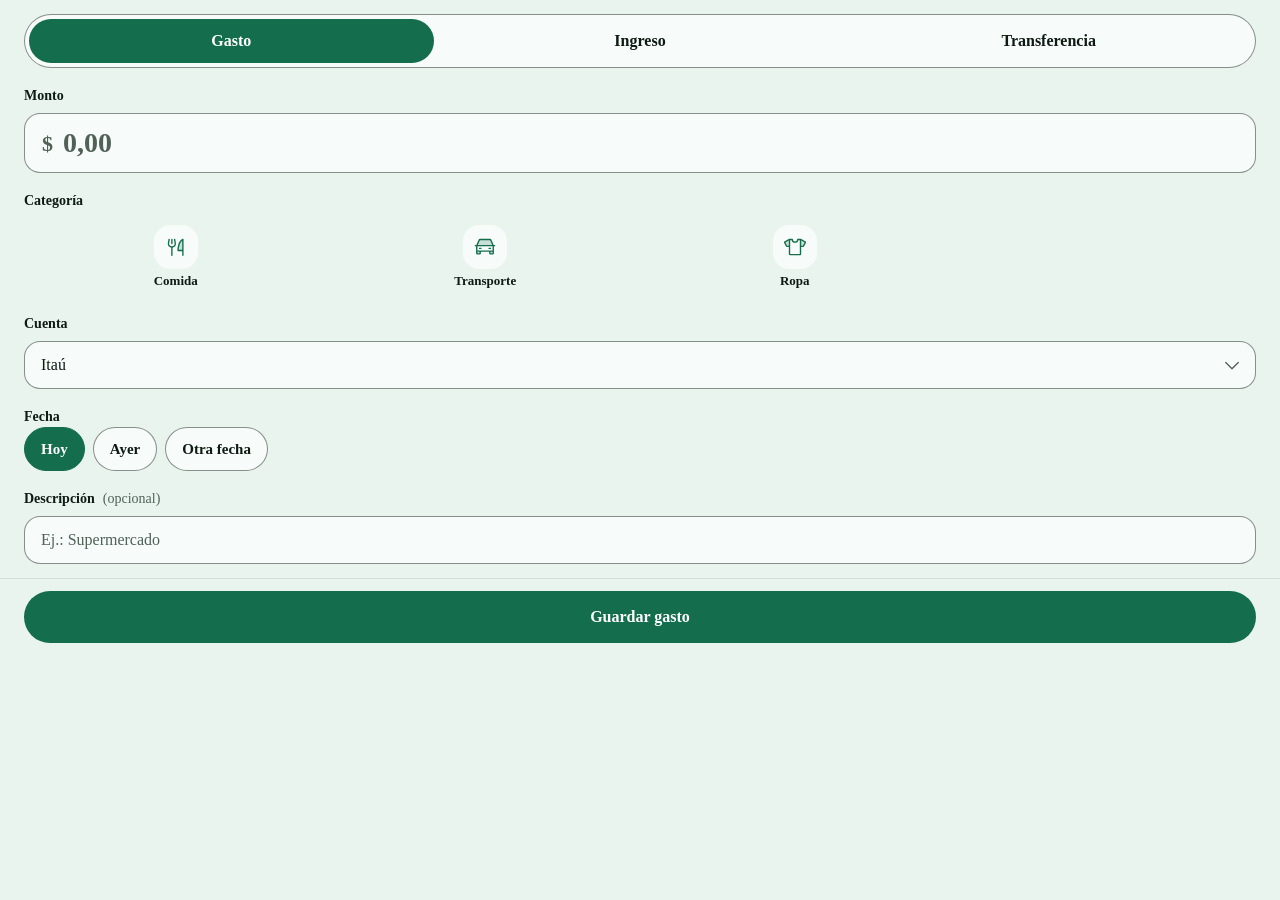
changing the type › asks for 'Desde' and 'Hacia' in a transfer, with the note and no category
Click the radio button labelled "Transferencia" at (1049, 40), box left=1001, top=32, right=1096, bottom=49
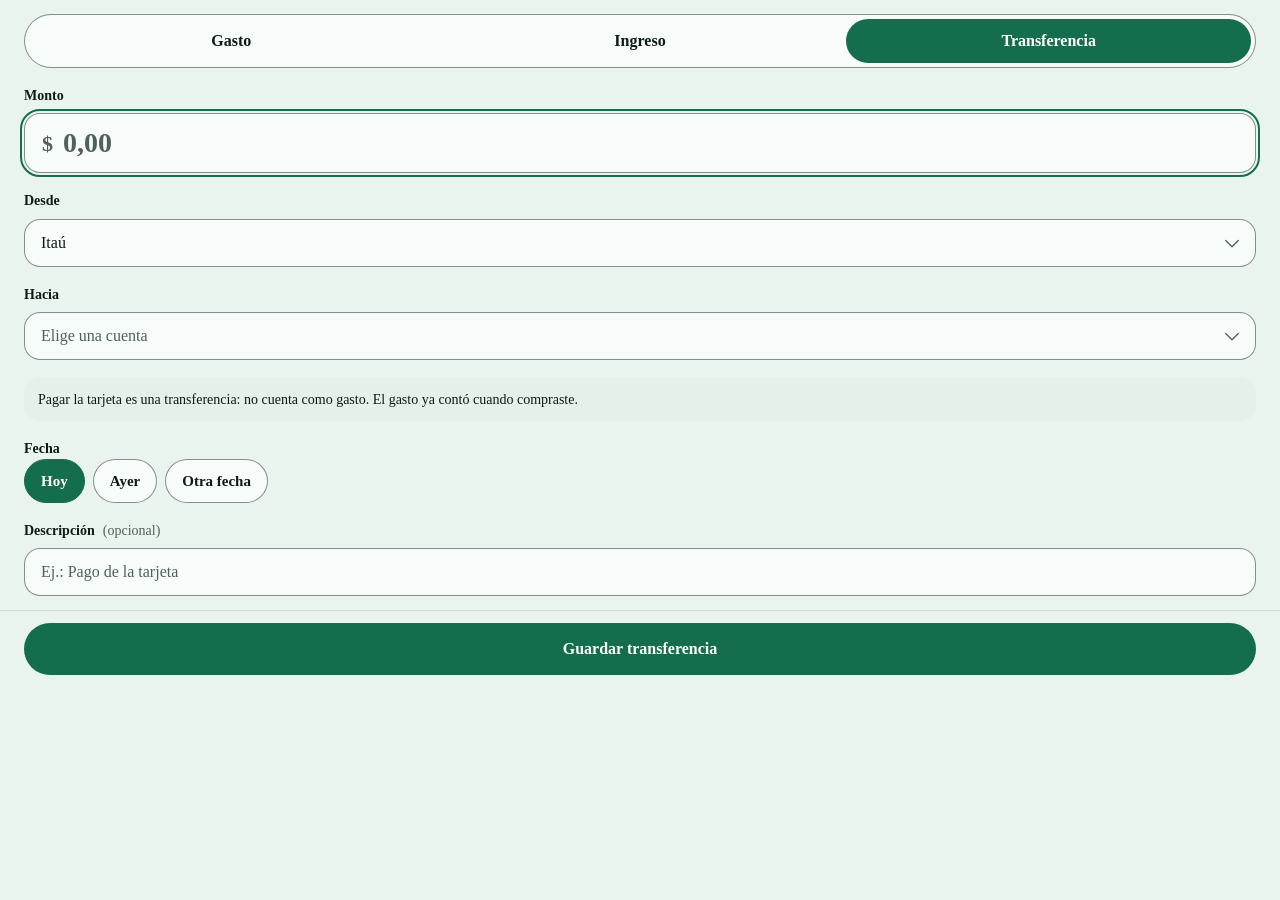
Check: the dropdown labelled "Desde" is shown, box left=24, top=218, right=1256, bottom=266
Check: the dropdown labelled "Hacia" is shown, box left=24, top=312, right=1256, bottom=360
Check: the text "Categoría" is gone
